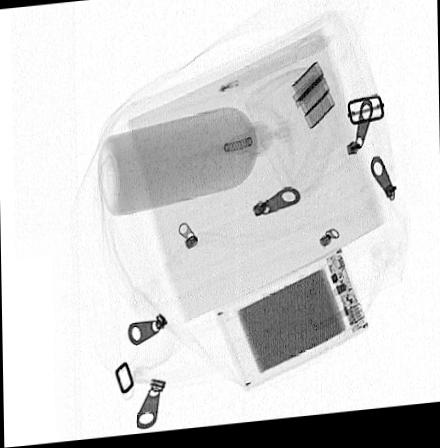Powerbank: (215, 252, 369, 394)
